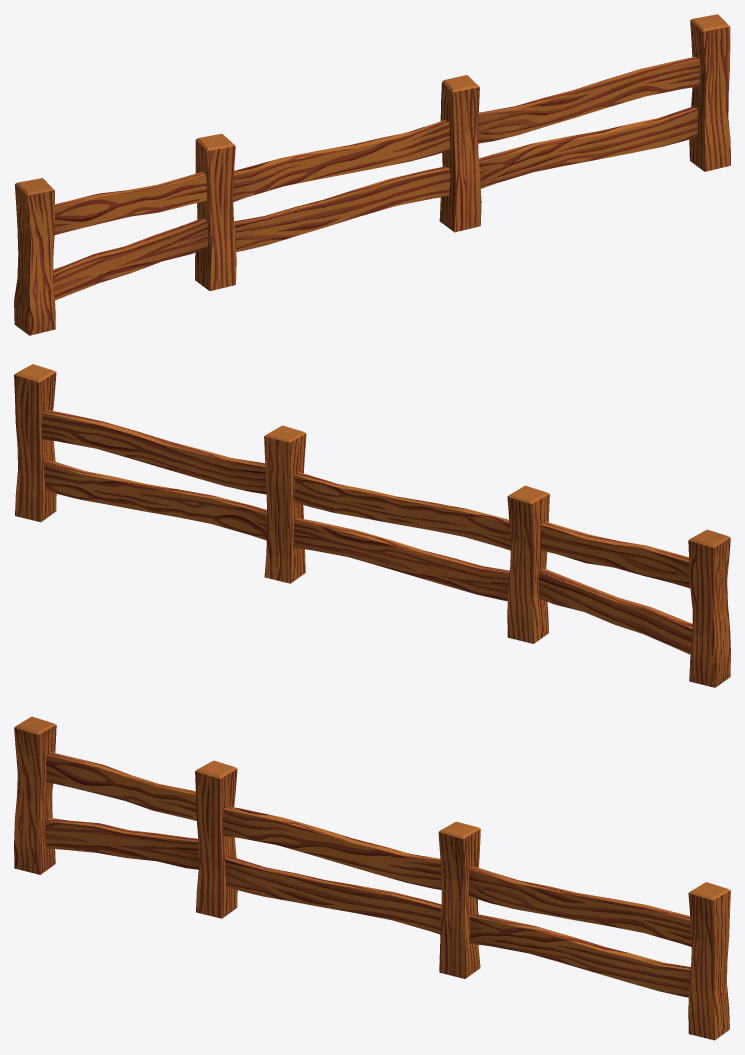
Rendered from fences.fbx.
3 renders of one model, top to bottom at view 1: azimuth 30°, elevation 25°; view 2: azimuth 150°, elevation 25°; view 3: azimuth 330°, elevation 25°, orthographic.
Parts seen in each view (by area): view 1: Fence1_LOD0; view 2: Fence1_LOD0; view 3: Fence1_LOD0.
Boxes of the visible parts, x1,y1,x2,y2 form: Fence1_LOD0: (14, 14, 730, 335); Fence1_LOD0: (14, 364, 730, 687); Fence1_LOD0: (14, 716, 730, 1040).
Size of what is drawn, in the model's own units: 1039 by 46.14 by 200.
Materials: 1 (1 with a texture image).
